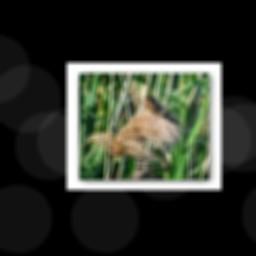Swallow: (140, 94, 183, 127)
